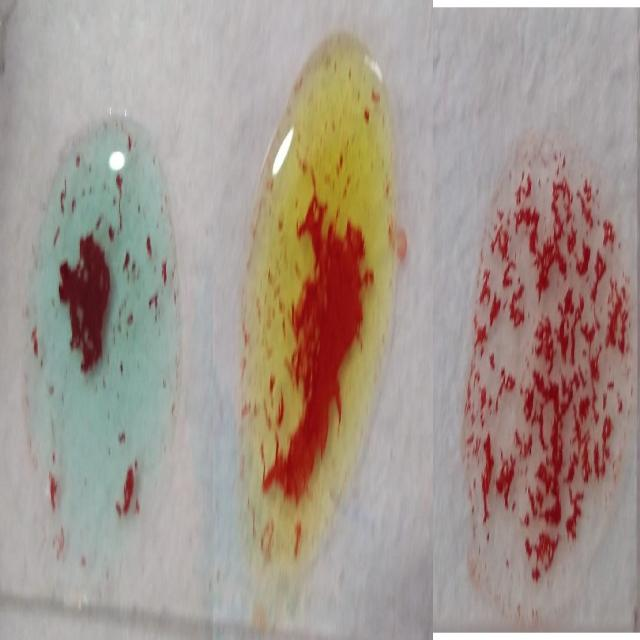A: (22, 127, 180, 594)
B: (239, 46, 397, 586)
D: (466, 155, 640, 611)
